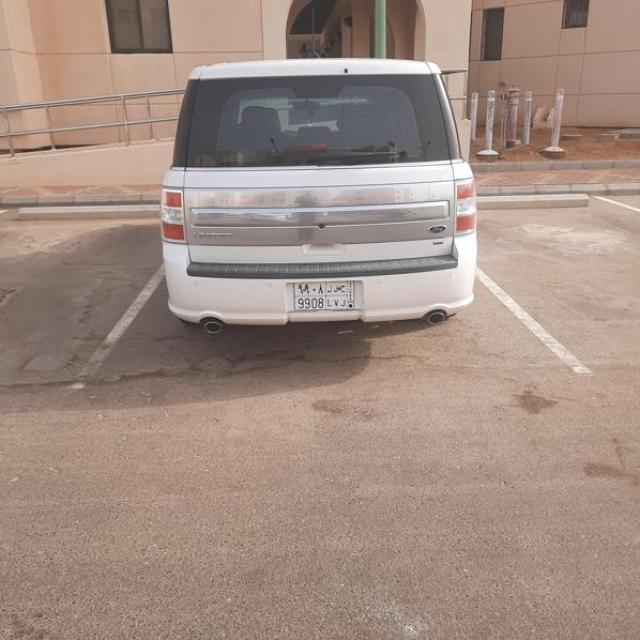license_plate: (294, 281, 355, 311)
